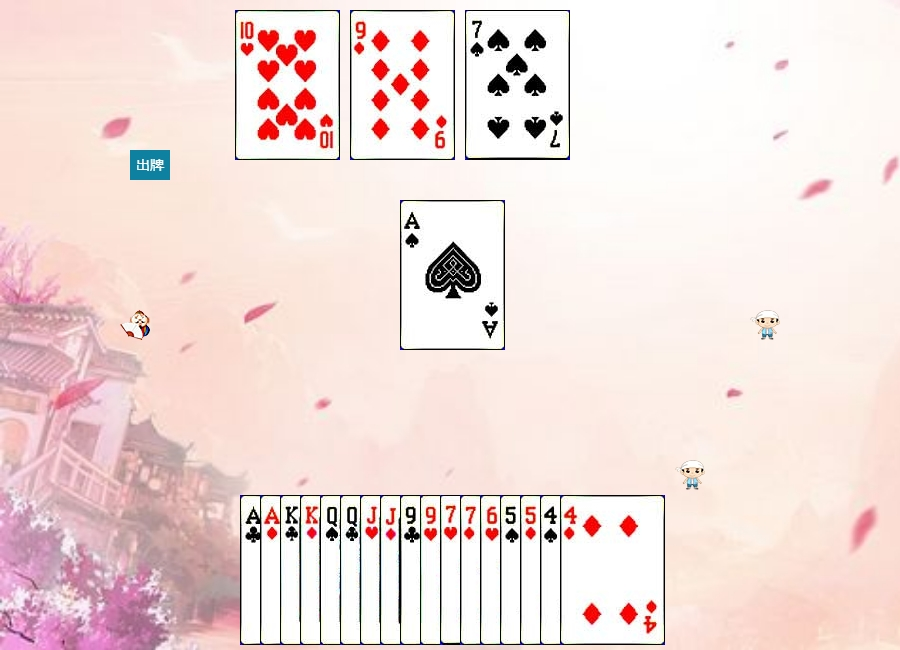10~3: (235, 10, 340, 160)
11~1: (380, 495, 485, 645)
11~3: (360, 495, 465, 645)
12~2: (340, 495, 445, 645)
12~4: (320, 495, 425, 645)
13~1: (300, 495, 405, 645)
13~2: (280, 495, 385, 645)
14~1: (260, 495, 365, 645)
14~2: (240, 495, 345, 645)
14~4: (400, 200, 505, 350)
4~1: (560, 495, 665, 645)
4~4: (540, 495, 645, 645)
5~1: (520, 495, 625, 645)
5~4: (500, 495, 605, 645)
6~3: (480, 495, 585, 645)
7~1: (460, 495, 565, 645)
7~3: (440, 495, 545, 645)
7~4: (465, 10, 570, 160)
9~1: (350, 10, 455, 160)
9~2: (400, 495, 505, 645)
9~3: (420, 495, 525, 645)
